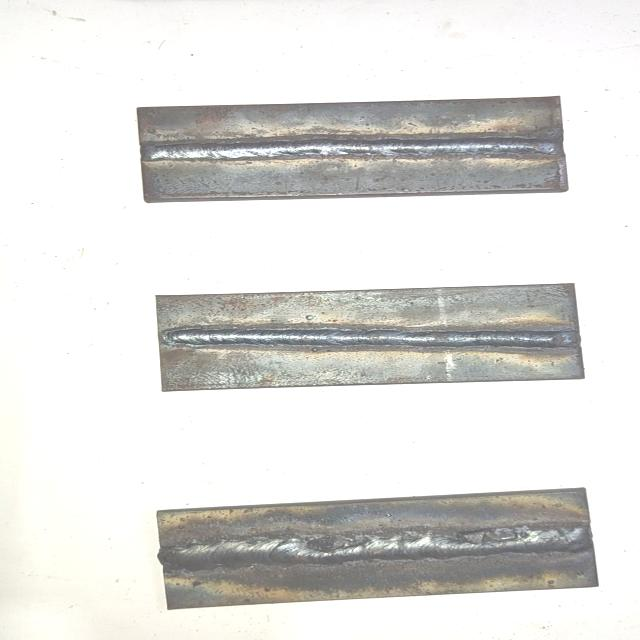Bad Weld: (165, 524, 587, 568)
Defect: (451, 518, 553, 548), (297, 525, 388, 555)
Good Weld: (140, 136, 563, 164), (162, 324, 578, 351)
